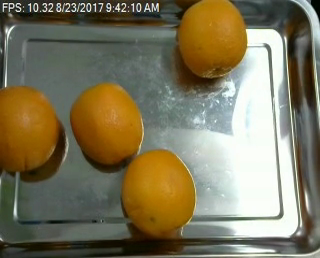Orange: (121, 149, 196, 232), (71, 81, 145, 165), (178, 1, 248, 79), (1, 88, 59, 175)
